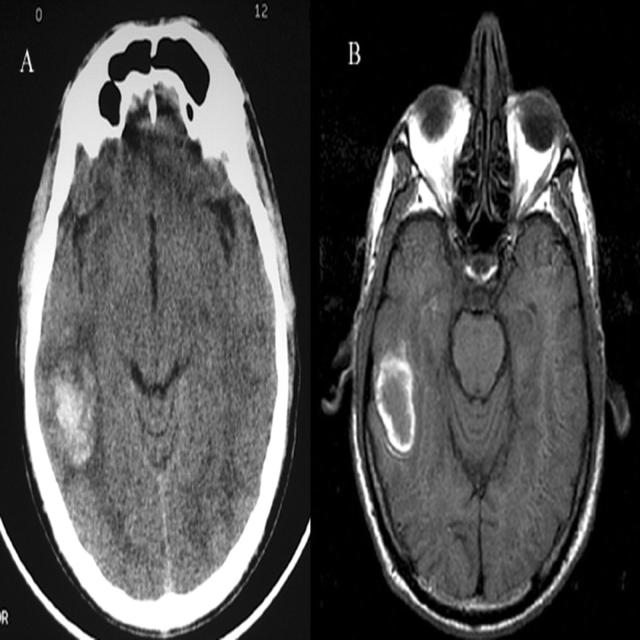Tumor: (54, 361, 96, 459), (381, 358, 419, 449)
